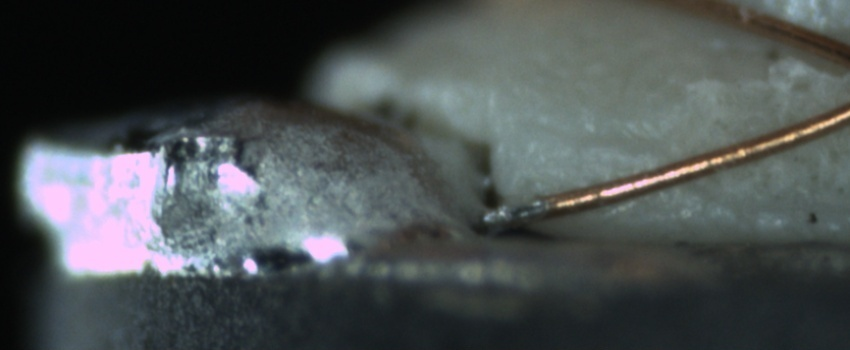DL: (537, 111, 673, 174)
TS: (472, 199, 550, 233)
